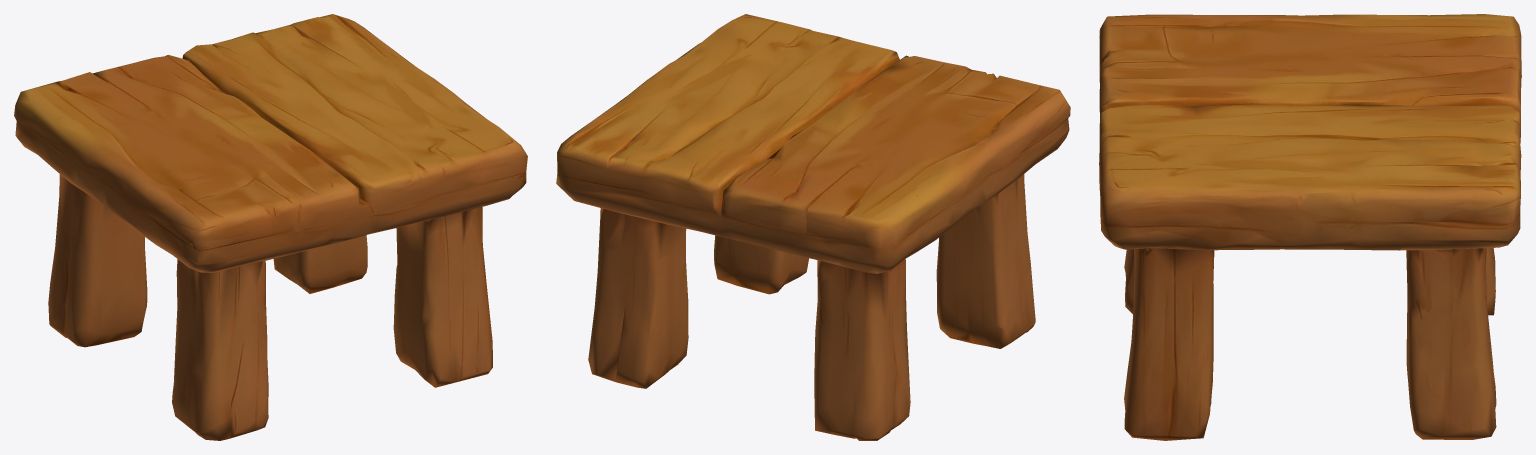
File: table.glb
3 renders of one model, left to right at view 1: azimuth 30°, elevation 25°; view 2: azimuth 150°, elevation 25°; view 3: azimuth 270°, elevation 25°, orthographic. The views are drawn at different scales.
Visible parts, largest first — view 1: tripo_node_541c788a-c8c9-4068-bdd7-8f6e6714ea76; view 2: tripo_node_541c788a-c8c9-4068-bdd7-8f6e6714ea76; view 3: tripo_node_541c788a-c8c9-4068-bdd7-8f6e6714ea76.
Boxes of the visible parts, x1=… form: tripo_node_541c788a-c8c9-4068-bdd7-8f6e6714ea76: x1=14, y1=14, x2=527, y2=440; tripo_node_541c788a-c8c9-4068-bdd7-8f6e6714ea76: x1=556, y1=14, x2=1070, y2=440; tripo_node_541c788a-c8c9-4068-bdd7-8f6e6714ea76: x1=1099, y1=14, x2=1521, y2=440.
Bounding box in the file's own units: 1 × 0.6576 × 0.9584.
Materials: 1 (1 with a texture image).
